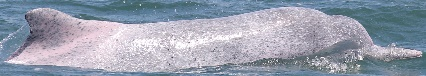fin: (6, 2, 426, 76)
